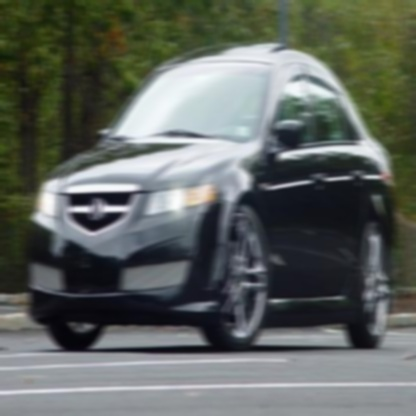Vehicle: (27, 43, 395, 356)
